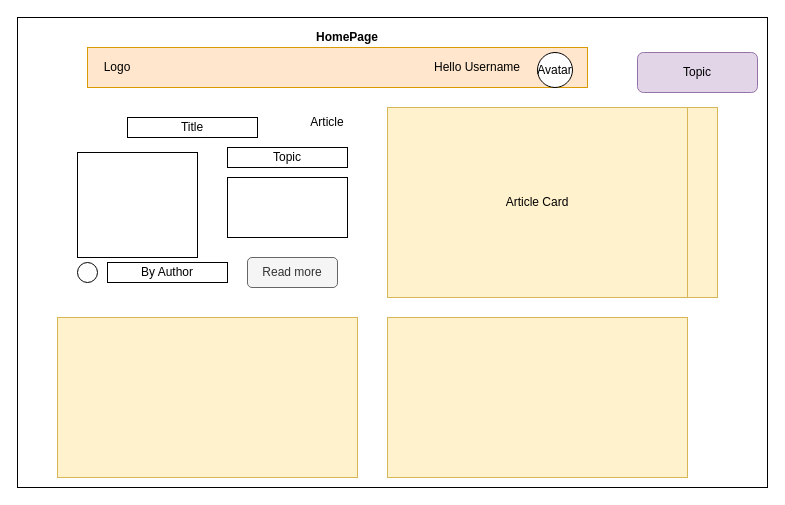
Some shapes in this 785 by 505 pixel diagram are drawn without their labels. Each missing label, with the centre of its shape:
"Beginning of body" belongs at (287,207).
"img" belongs at (137,205).
"Likes" belongs at (87,272).
